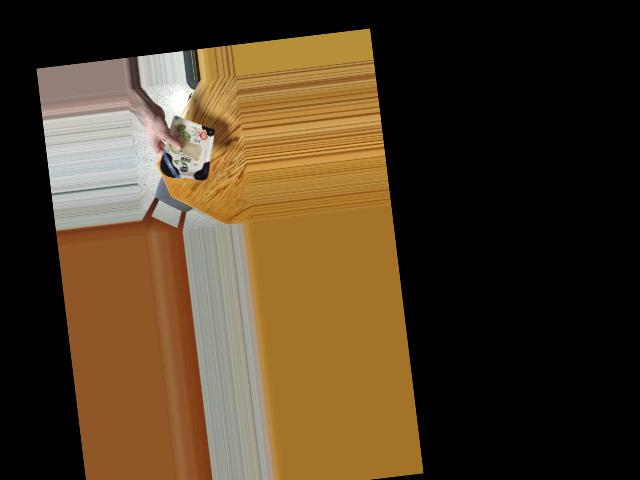cheese: (153, 121, 219, 186)
